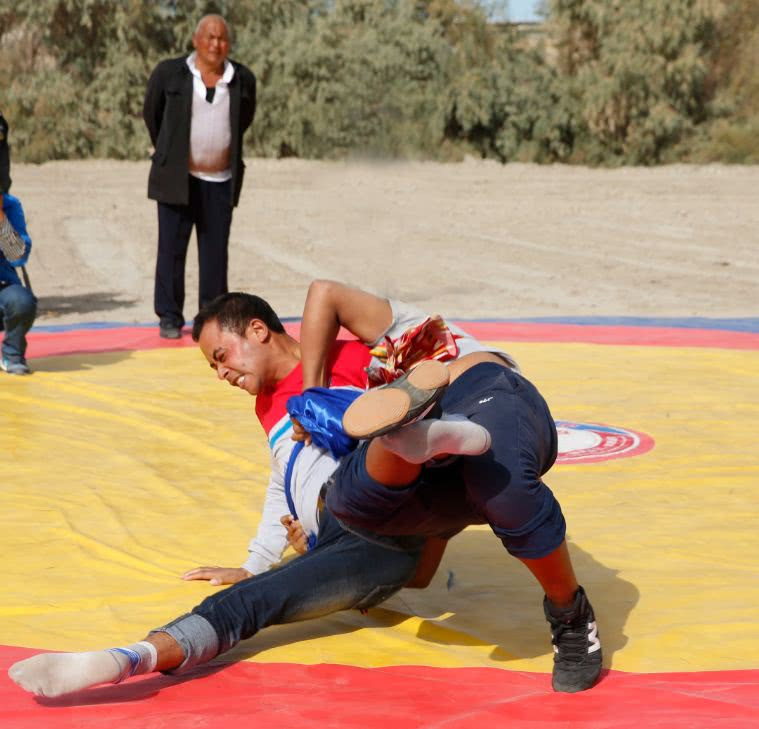fall: (177, 297, 424, 587)
